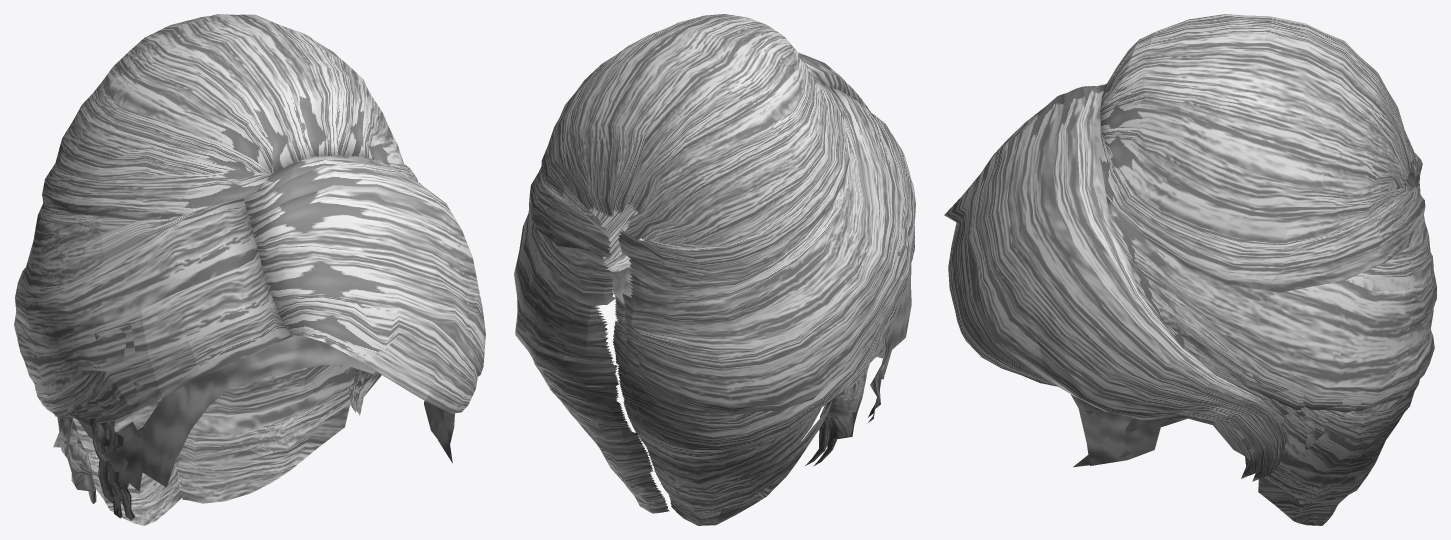
The model's file is hair_braid01.glb.
3 views of the same model, side by side, from view 1: azimuth 30°, elevation 25°; view 2: azimuth 150°, elevation 25°; view 3: azimuth 270°, elevation 25° (orthographic). The views are drawn at different scales.
Parts seen in each view (by area): view 1: hair_braid01; view 2: hair_braid01; view 3: hair_braid01.
Part boxes in pixels (left/top/right/bottom): hair_braid01: left=14, top=14, right=485, bottom=525; hair_braid01: left=514, top=14, right=915, bottom=525; hair_braid01: left=944, top=14, right=1436, bottom=525.
Bounding box in the file's own units: 0.171 × 0.2275 × 0.208.
1 material, 1 textured.
